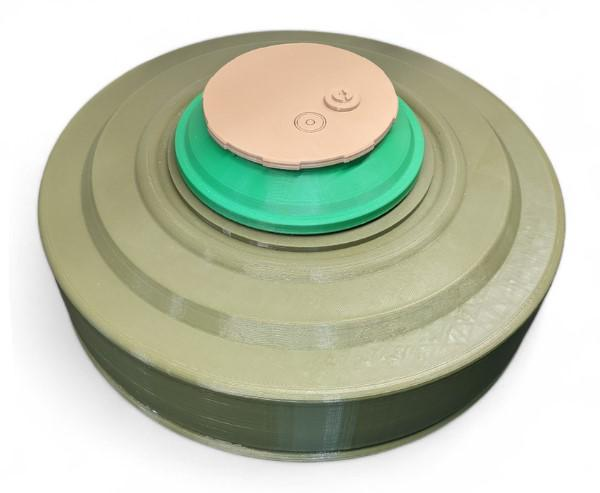TM 62: (38, 32, 565, 462)
